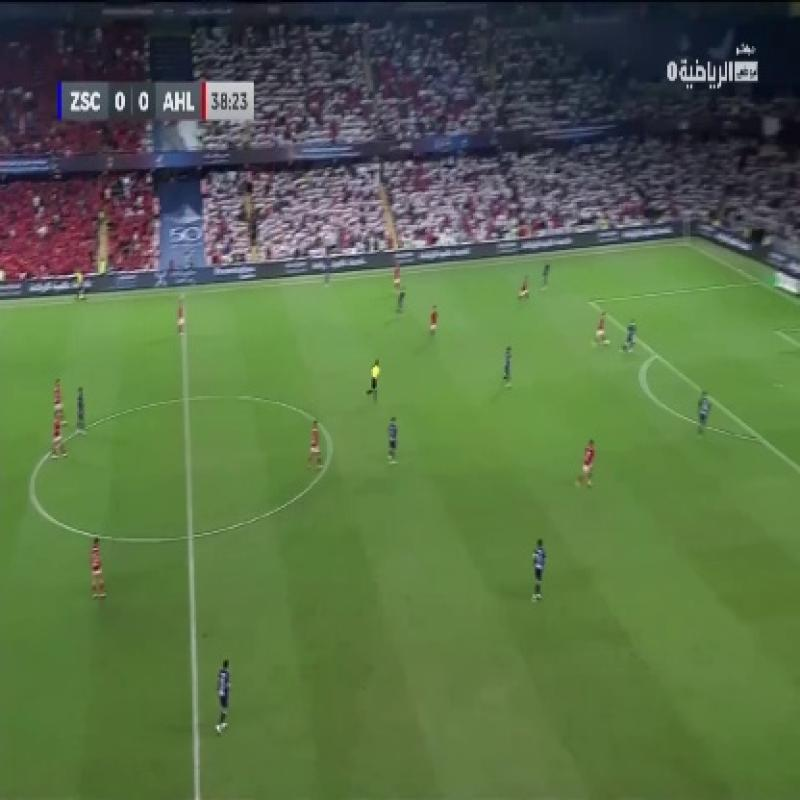1: (673, 234, 694, 250)
10: (646, 344, 664, 364)
11: (752, 427, 768, 448)
13: (172, 283, 192, 303)
14: (171, 382, 198, 414)
15: (175, 515, 200, 552)
2: (746, 271, 764, 289)
7: (767, 321, 783, 339)
9: (580, 290, 596, 310)
c: (16, 468, 50, 514), (318, 424, 355, 464)
